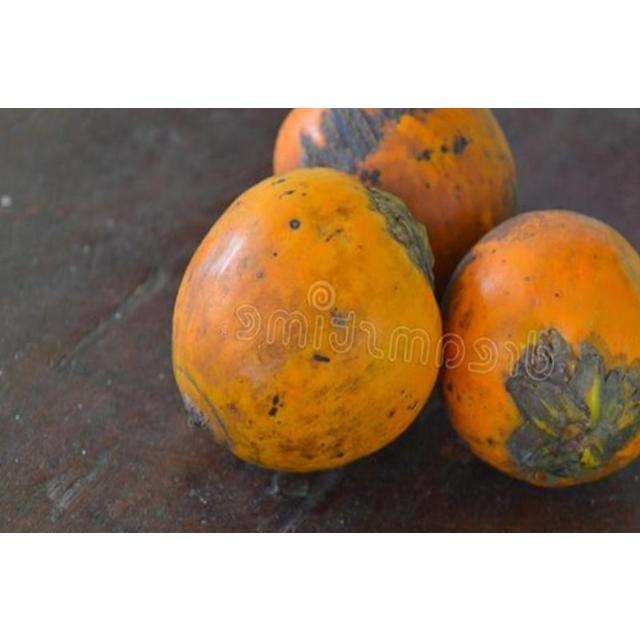good: (170, 165, 444, 475), (438, 209, 639, 490), (276, 107, 519, 300)
